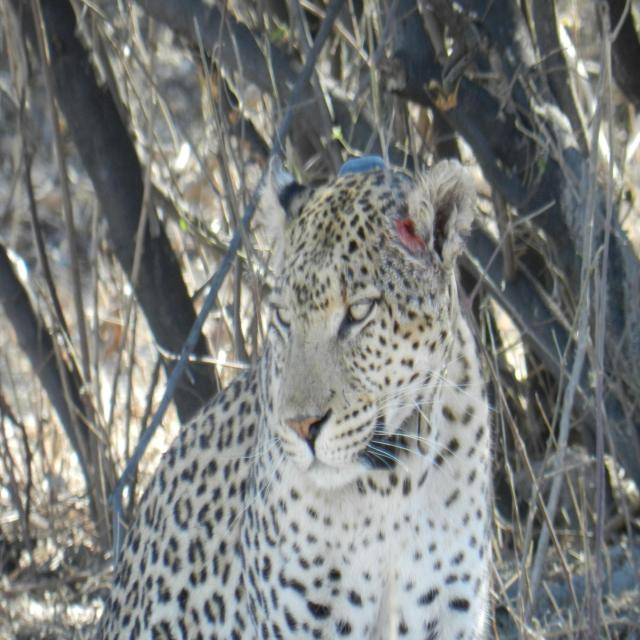Leopard: (19, 144, 551, 640)
